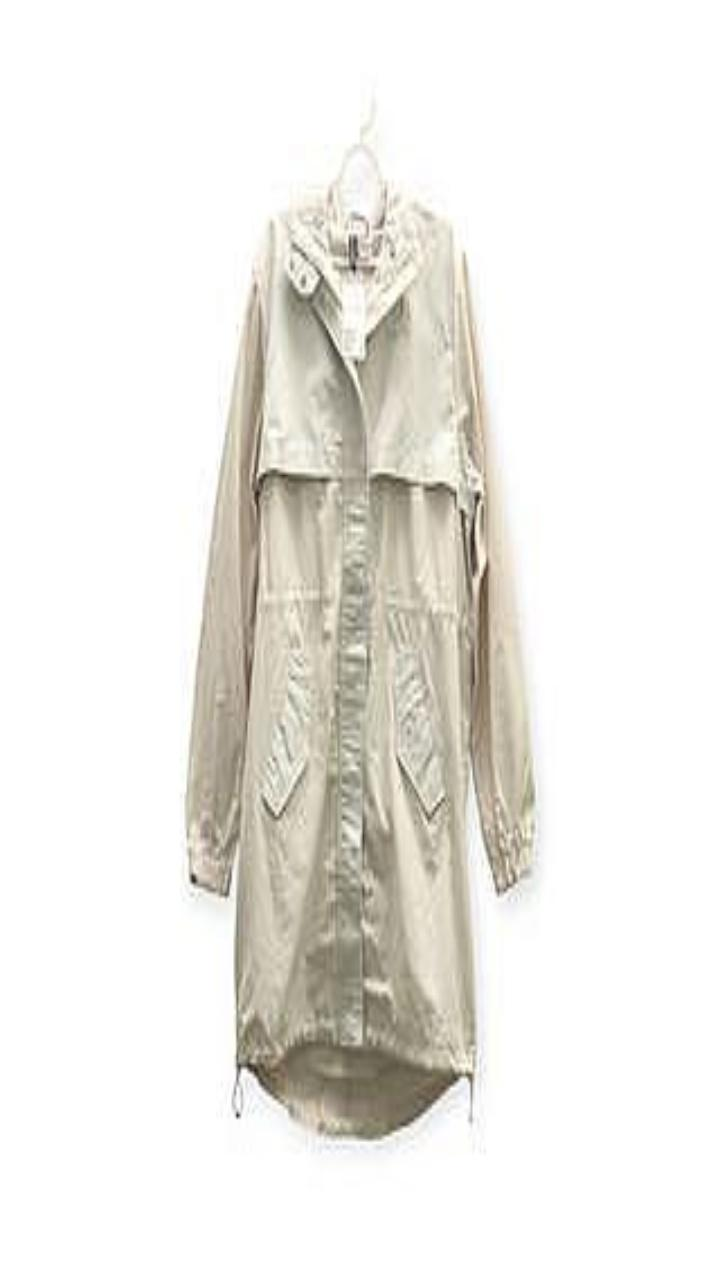Coat: (186, 185, 534, 1136)
